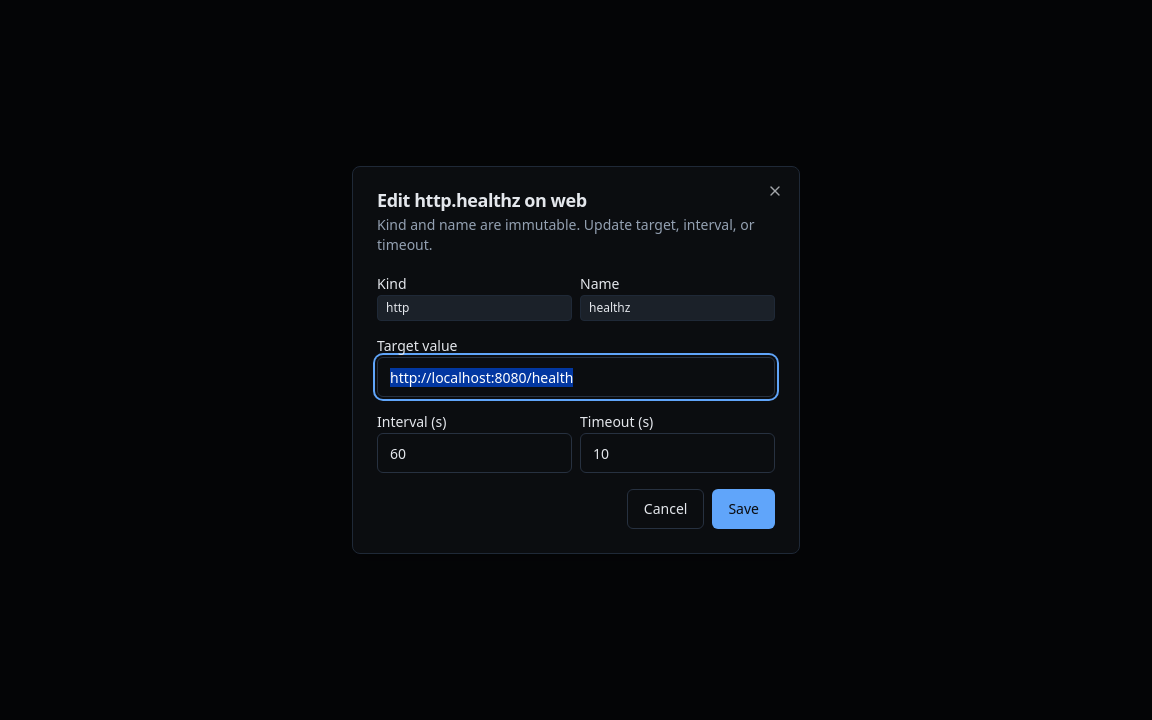
Test: EditProbeModal › shows interval validation error when interval is out of range
This screenshot has width=1152, height=720.
Replace the text in the number field with test id "edit-probe-interval" with "9999": {"x": 474, "y": 453} [377, 433, 572, 473]
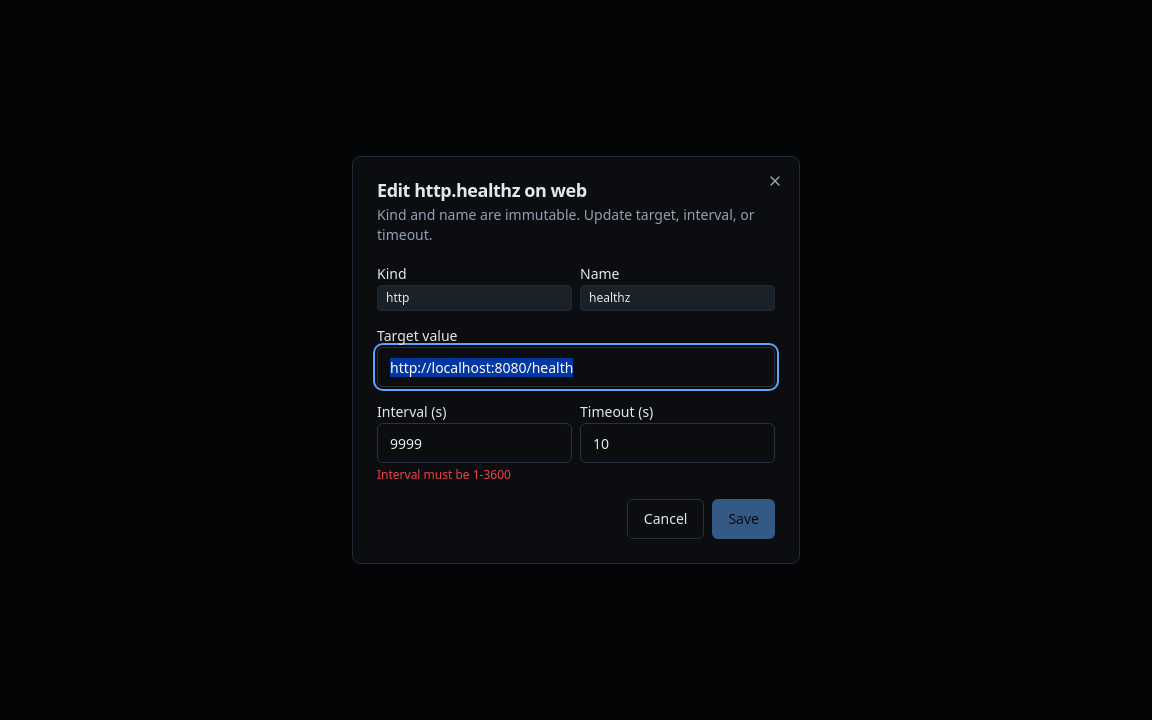
Check: the text "Interval must be 1-3600" is shown, box [377, 466, 511, 483]
Check: the button with test id "edit-probe-submit" is disabled, box [712, 499, 775, 539]
